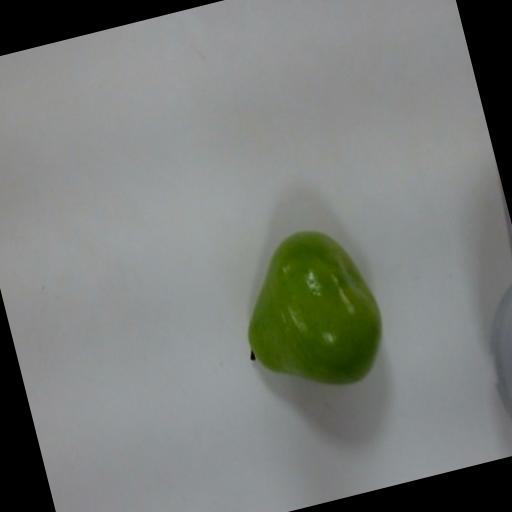Unripe: (217, 203, 414, 436)
